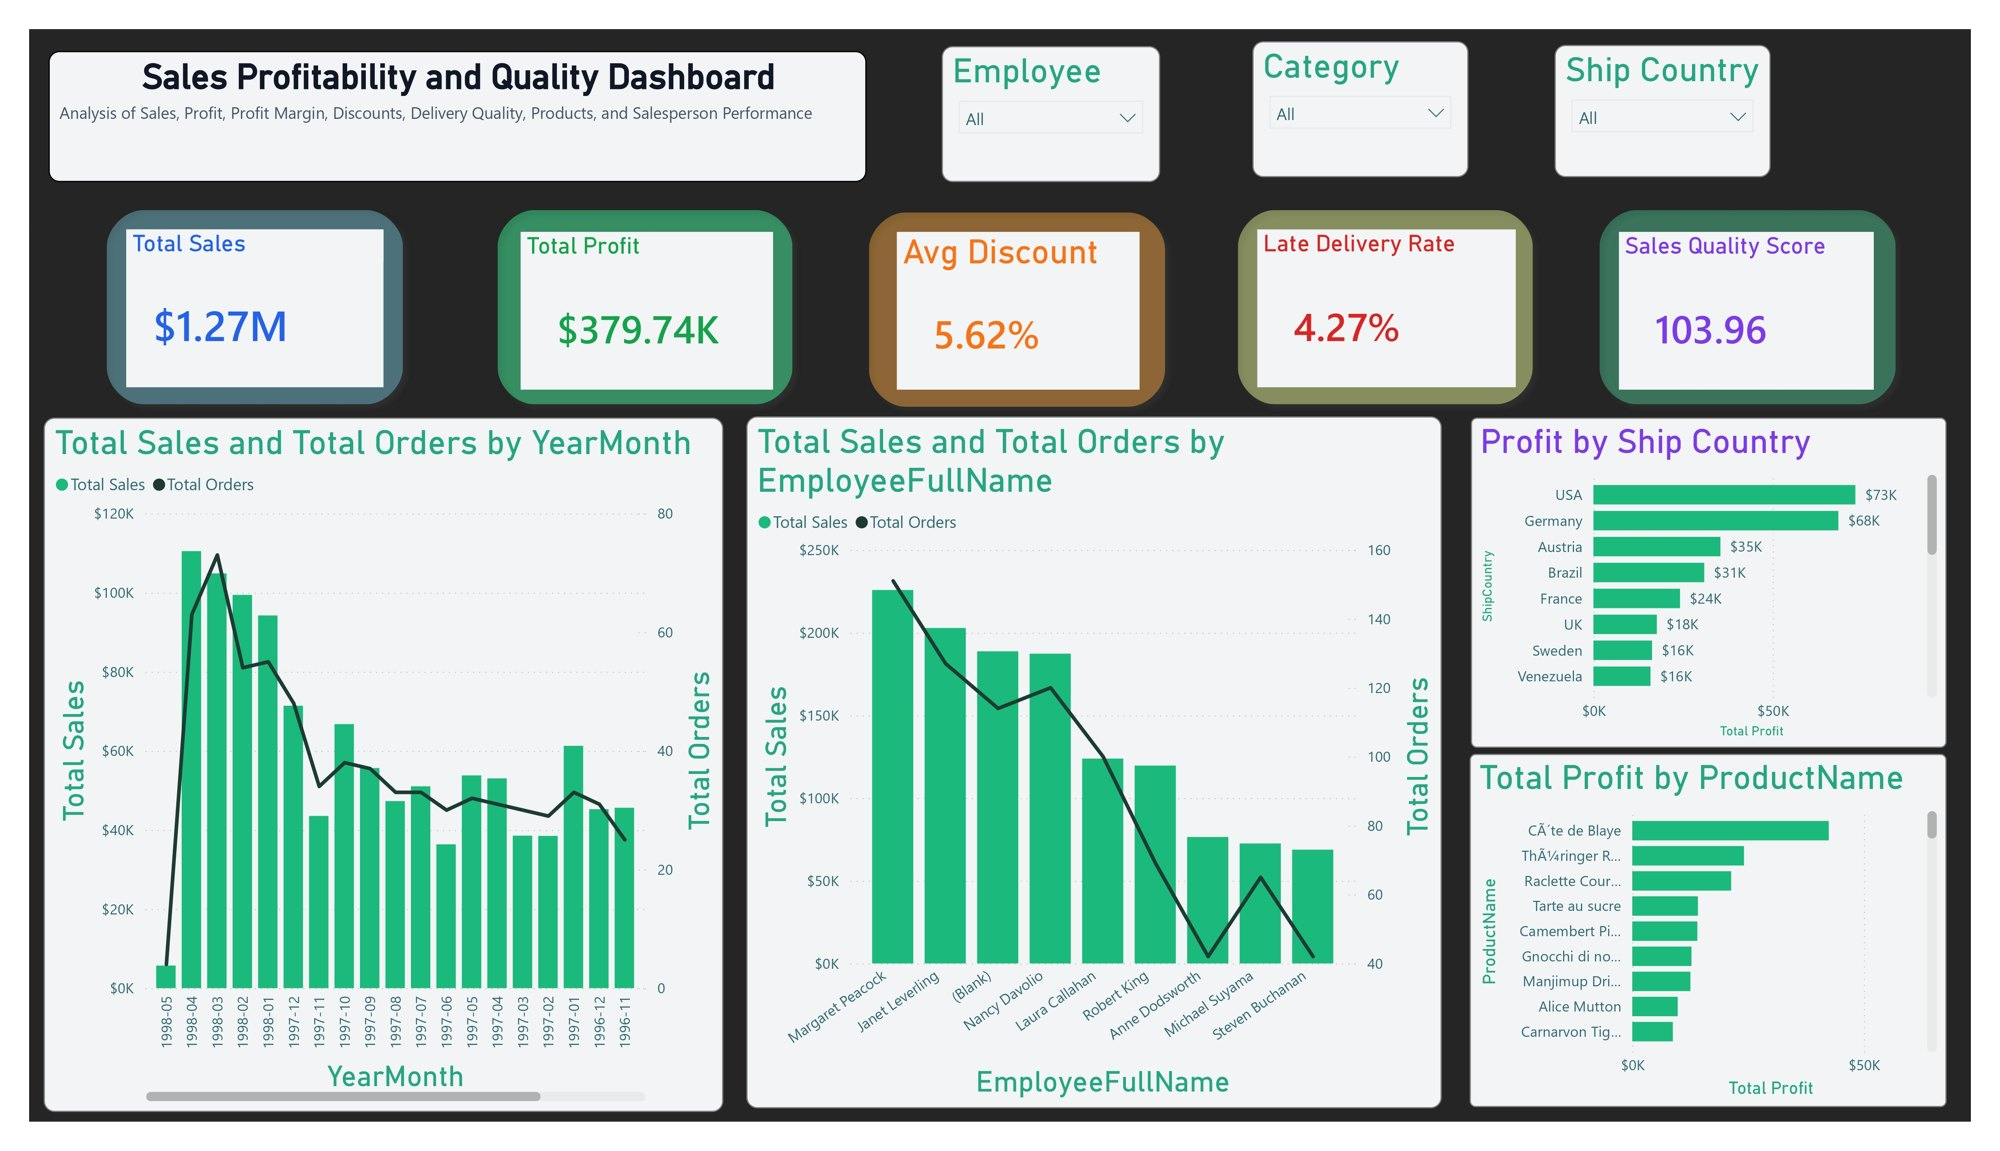

The page's visual inventory and layout, read from the dashboard file:
{"tool":"powerbi","page":{"name":"Profitability & Sales Quality ","canvas":[1600,900],"ordinal":1},"visuals":[{"type":"shape","box":[1285,140,261.7,178.3],"z":0},{"type":"shape","box":[986.7,140,261.7,178.3],"z":1000},{"type":"shape","box":[683.3,141.7,261.7,178.3],"z":2000},{"type":"shape","box":[376.7,140,261.7,178.3],"z":3000},{"type":"shape","box":[55,140,261.7,178.3],"z":4000},{"type":"textbox","title":"Sales Profitability and Quality Dashboard","box":[16,18,674,108],"z":5000},{"type":"slicer","title":"Category","fields":{"Values":["DimProduct.northwinddb categories.CategoryName"]},"box":[1008,10,178,112],"z":6000},{"type":"slicer","title":"Employee","fields":{"Values":["DimEmployee.EmployeeFullName"]},"box":[752,14,180,112],"z":7000},{"type":"slicer","title":"Ship Country","fields":{"Values":["FactSales.ShipCountry"]},"box":[1256.7,13.3,178.3,108.3],"z":8000},{"type":"cardVisual","title":"Total Sales","fields":{"Data":["_Measures.Total Sales"]},"box":[80,165,211.7,130],"z":9000},{"type":"cardVisual","title":"Total Profit","fields":{"Data":["_Measures.Total Profit"]},"box":[405,166.7,208.3,130],"z":10000},{"type":"cardVisual","title":"Avg Discount","fields":{"Data":["_Measures.Average Discount Rate"]},"box":[715,166.7,200,130],"z":11000},{"type":"cardVisual","title":"Late Delivery Rate","fields":{"Data":["_Measures.Late Delivery Rate"]},"box":[1011.7,165,213.3,130],"z":12000},{"type":"cardVisual","title":"Sales Quality Score","fields":{"Data":["_Measures.Sales Quality Score"]},"box":[1310,166.7,210,130],"z":13000},{"type":"lineClusteredColumnComboChart","fields":{"Y":["_Measures.Total Sales"],"Category":["DimDate.YearMonth"],"Y2":["_Measures.Total Orders"]},"box":[11.7,320,560,571.7],"z":14000},{"type":"clusteredBarChart","fields":{"Category":["DimProduct.ProductName"],"Y":["_Measures.Total Profit"]},"box":[1186.7,596.7,393.3,291.7],"z":16000},{"type":"lineClusteredColumnComboChart","fields":{"Category":["DimEmployee.EmployeeFullName"],"Y":["_Measures.Total Sales"],"Y2":["_Measures.Total Orders"]},"box":[591.4,318.6,572.9,570],"z":17000},{"type":"clusteredBarChart","title":"Profit by Ship Country","fields":{"Category":["FactSales.ShipCountry"],"Y":["_Measures.Total Profit"]},"box":[1188.3,320,391.7,271.7],"z":18000}]}

Visuals, with their boxes in screenshot pixels (x1, y1, x2, y2), scaled from the page's 1600x900 canvas onto the 2000x1151 screenshot:
shape: (1606,179,1933,407)
shape: (1233,179,1560,407)
shape: (854,181,1181,409)
shape: (471,179,798,407)
shape: (69,179,396,407)
"Sales Profitability and Quality Dashboard" textbox: (20,23,862,161)
"Category" slicer: (1260,13,1482,156)
"Employee" slicer: (940,18,1165,161)
"Ship Country" slicer: (1571,17,1794,156)
"Total Sales" cardVisual: (100,211,365,377)
"Total Profit" cardVisual: (506,213,767,379)
"Avg Discount" cardVisual: (894,213,1144,379)
"Late Delivery Rate" cardVisual: (1265,211,1531,377)
"Sales Quality Score" cardVisual: (1638,213,1900,379)
lineClusteredColumnComboChart - _Measures.Total Sales x DimDate.YearMonth: (15,409,715,1140)
clusteredBarChart - DimProduct.ProductName x _Measures.Total Profit: (1483,763,1975,1136)
lineClusteredColumnComboChart - DimEmployee.EmployeeFullName x _Measures.Total Sales: (739,407,1455,1136)
"Profit by Ship Country" clusteredBarChart: (1485,409,1975,757)
